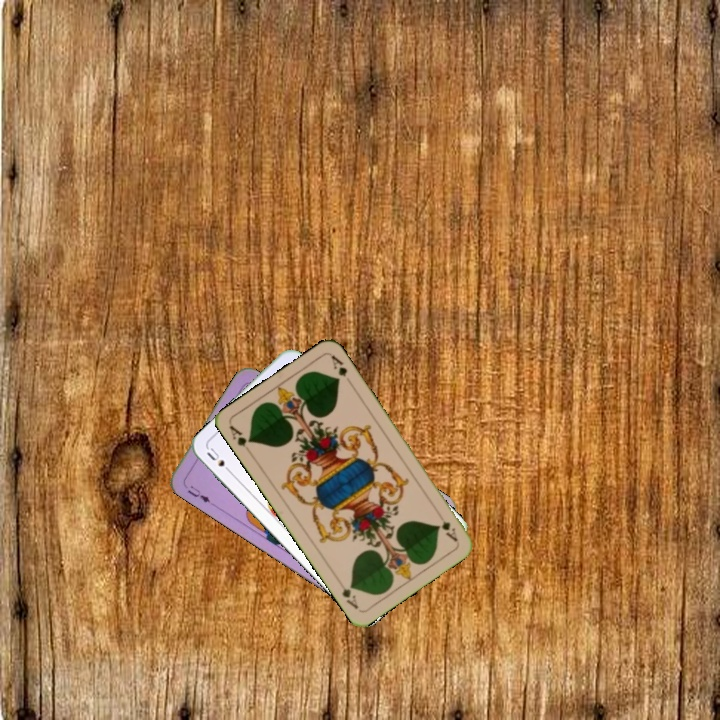EU: (180, 480, 216, 507)
GA: (225, 422, 255, 449), (437, 517, 460, 544)
SU: (203, 444, 235, 477)
